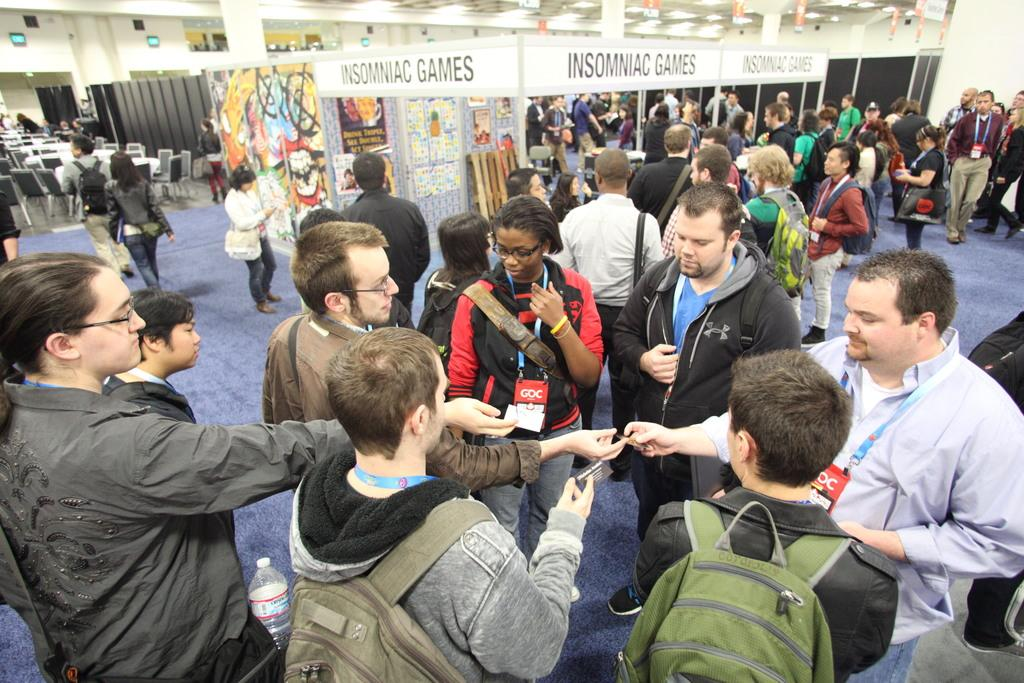Luggage-and-bags: (637, 484, 879, 673), (283, 498, 499, 682), (635, 263, 781, 352), (456, 283, 572, 383), (755, 190, 812, 299), (970, 311, 1023, 411), (817, 183, 875, 253), (110, 378, 196, 422), (896, 153, 945, 226), (69, 158, 109, 215), (656, 168, 694, 228), (796, 133, 829, 185), (283, 316, 305, 390), (223, 220, 260, 262), (190, 148, 215, 182), (636, 210, 645, 277), (770, 129, 800, 143), (714, 99, 729, 124)
